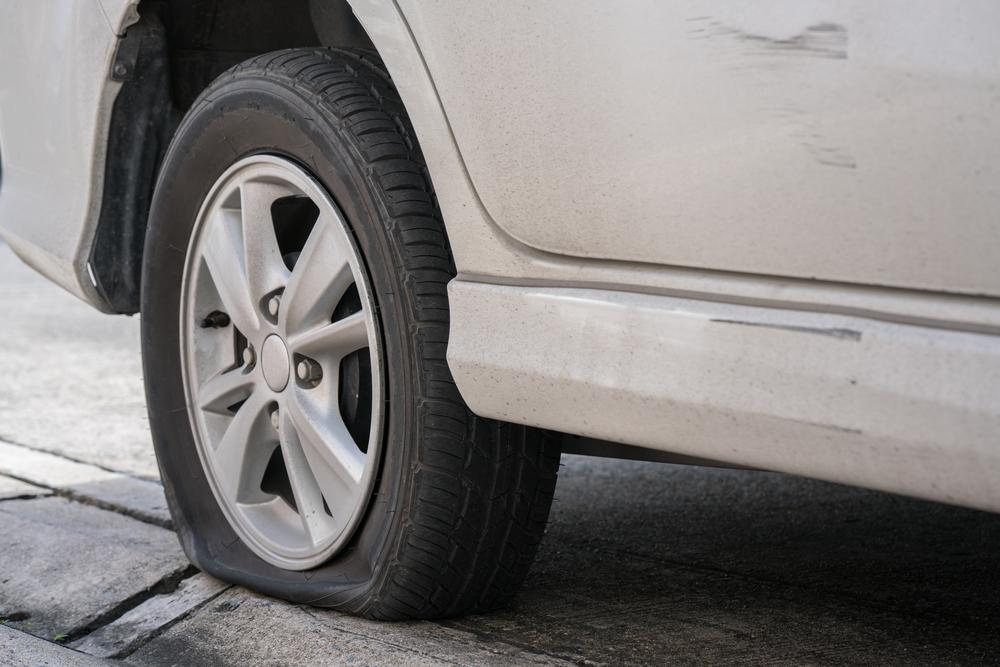scratch: (693, 12, 872, 180)
tire flat: (140, 43, 562, 621)
